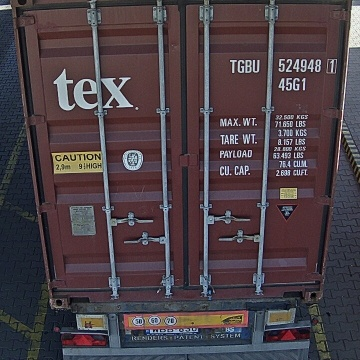serial_id: (230, 58, 336, 72)
